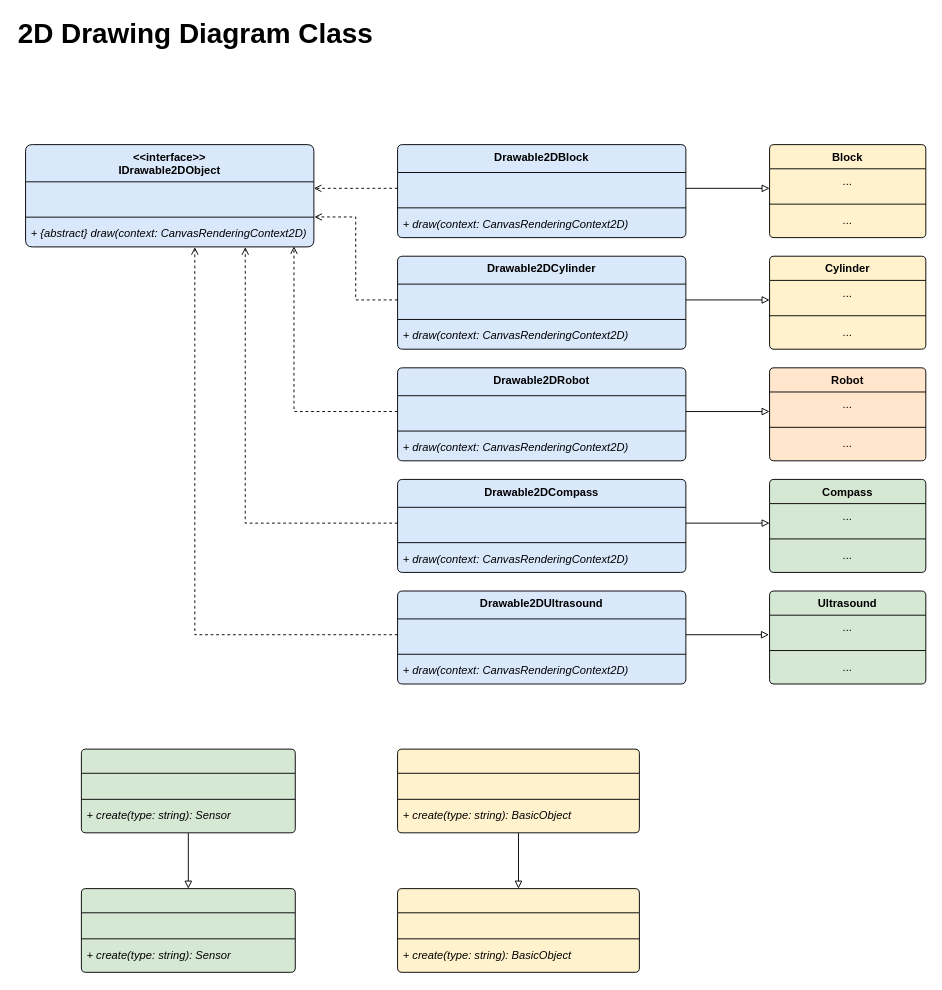
The diagram is 942 pixels wide and 990 high, and some of its shapes have lost their labels. The shapes that lost their labels are listed below. From the top down, each one's box as (x1, y1, x2, y2) in pixels, then its label:
(80, 748, 295, 833): Drawable2DSensorFactory
(397, 748, 639, 833): Drawable2DTangibleObjectFactory
(80, 888, 295, 972): SensorFactory
(397, 888, 639, 972): TangibleObjectFactory
